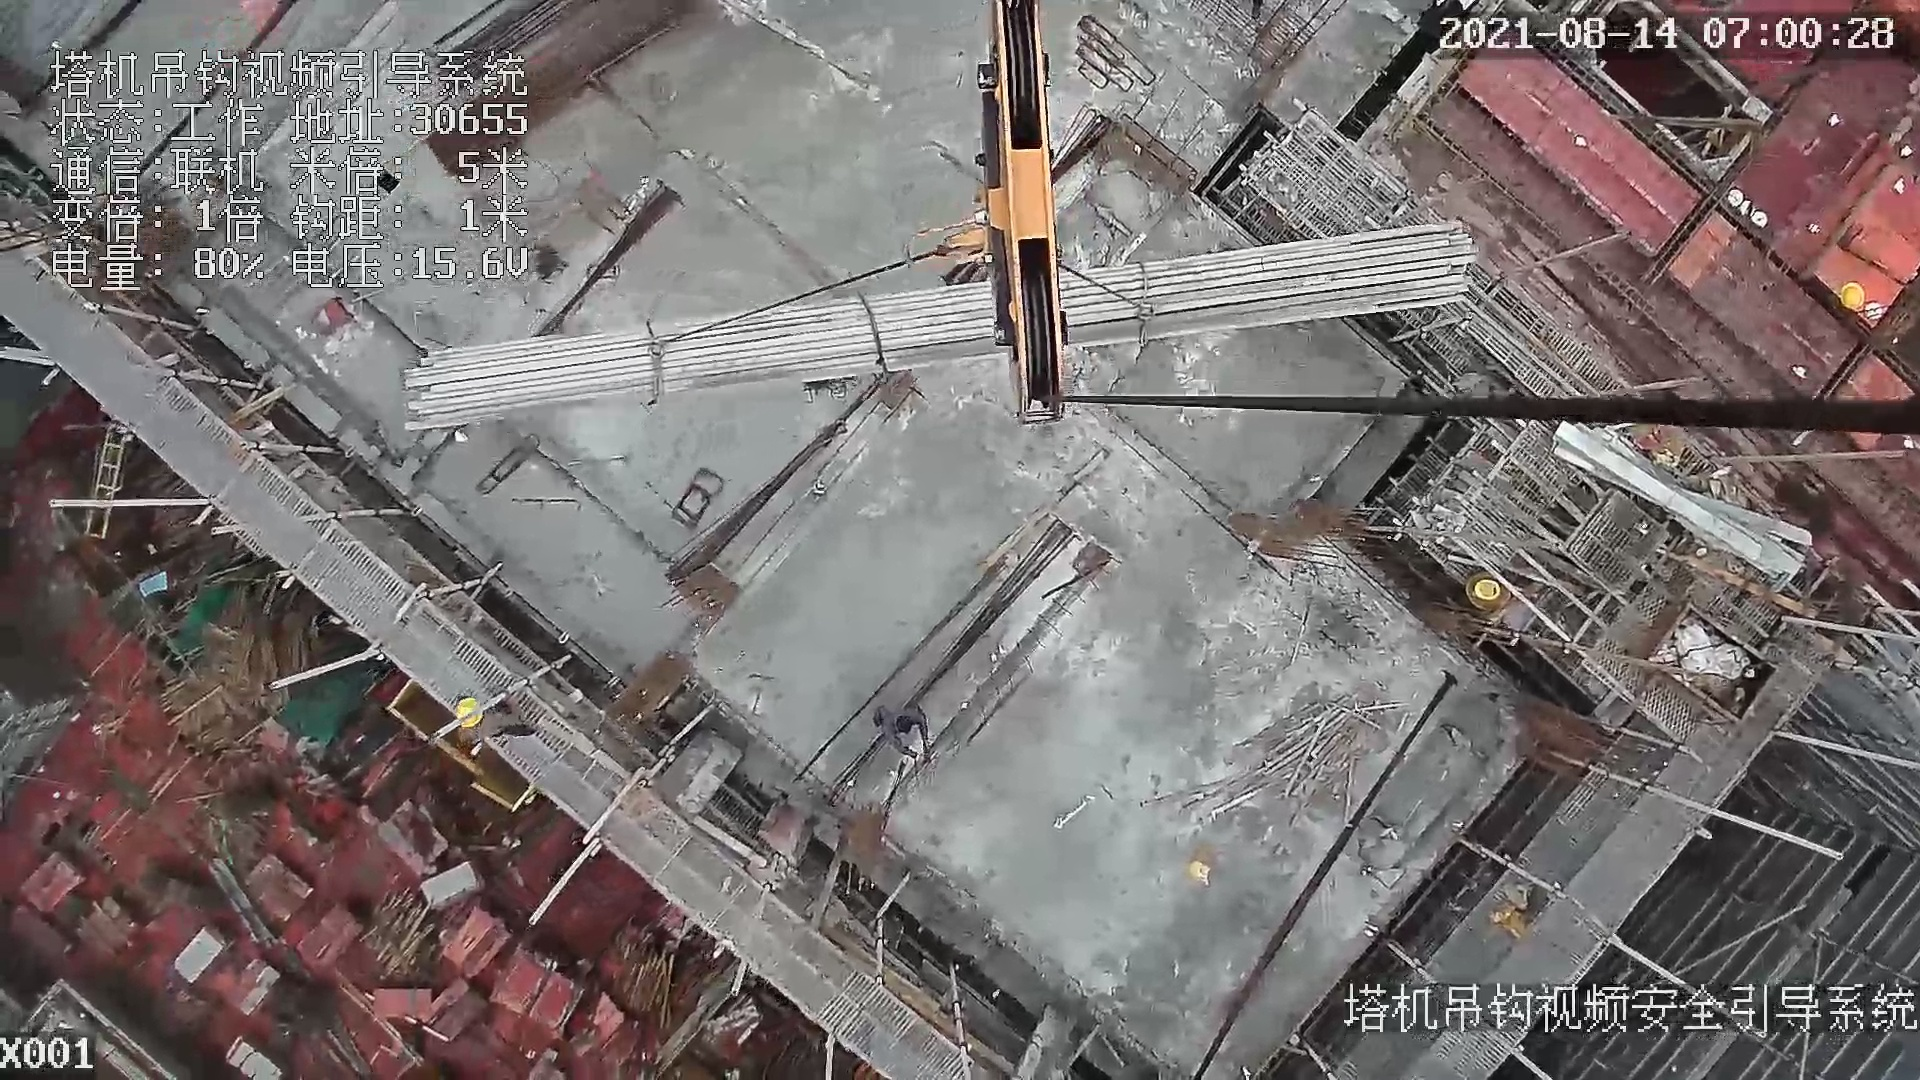helmet: (448, 695, 490, 730)
hook: (908, 1, 1073, 427)
person: (438, 697, 538, 745), (869, 695, 932, 768)
